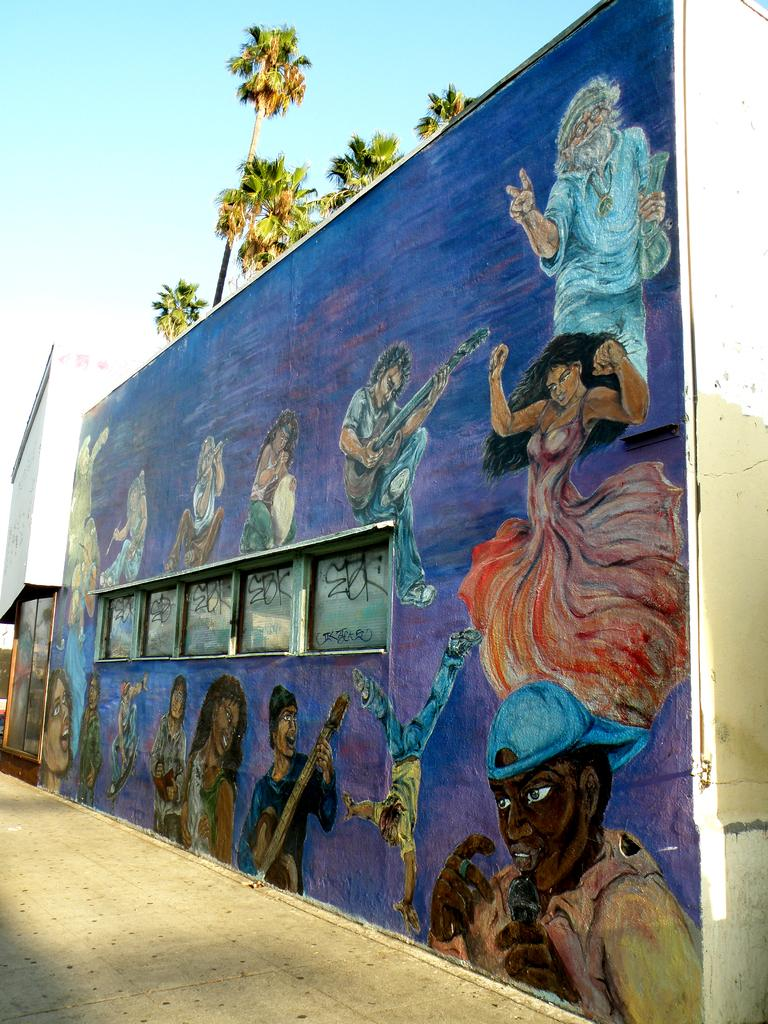Hat: (484, 682, 650, 776)
